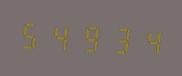five: (18, 16, 46, 53)
four: (47, 17, 75, 55), (134, 22, 162, 59)
nine: (76, 19, 104, 56)
three: (105, 20, 133, 58)
